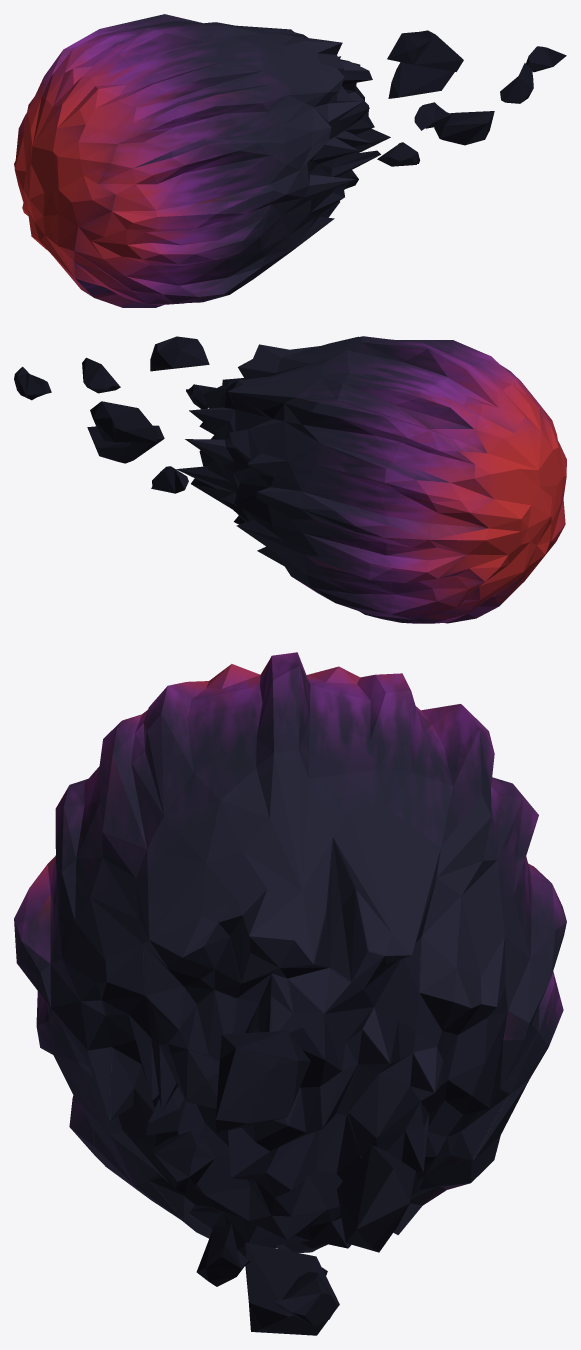
The model's file is Asteroid1.glb.
The picture shows the model from 3 angles, top to bottom: view 1: azimuth 30°, elevation 25°; view 2: azimuth 150°, elevation 25°; view 3: azimuth 270°, elevation 25°; orthographic projection. The views are drawn at different scales.
Visible parts, largest first — view 1: Asteroid_1; view 2: Asteroid_1; view 3: Asteroid_1.
Part boxes in pixels (x1,y1,x2,y2): Asteroid_1: [14, 14, 566, 307]; Asteroid_1: [14, 336, 566, 623]; Asteroid_1: [14, 652, 566, 1335].
Size of the model in its own units: 48.02 by 23.5 by 21.87.
1 material, 1 textured.
